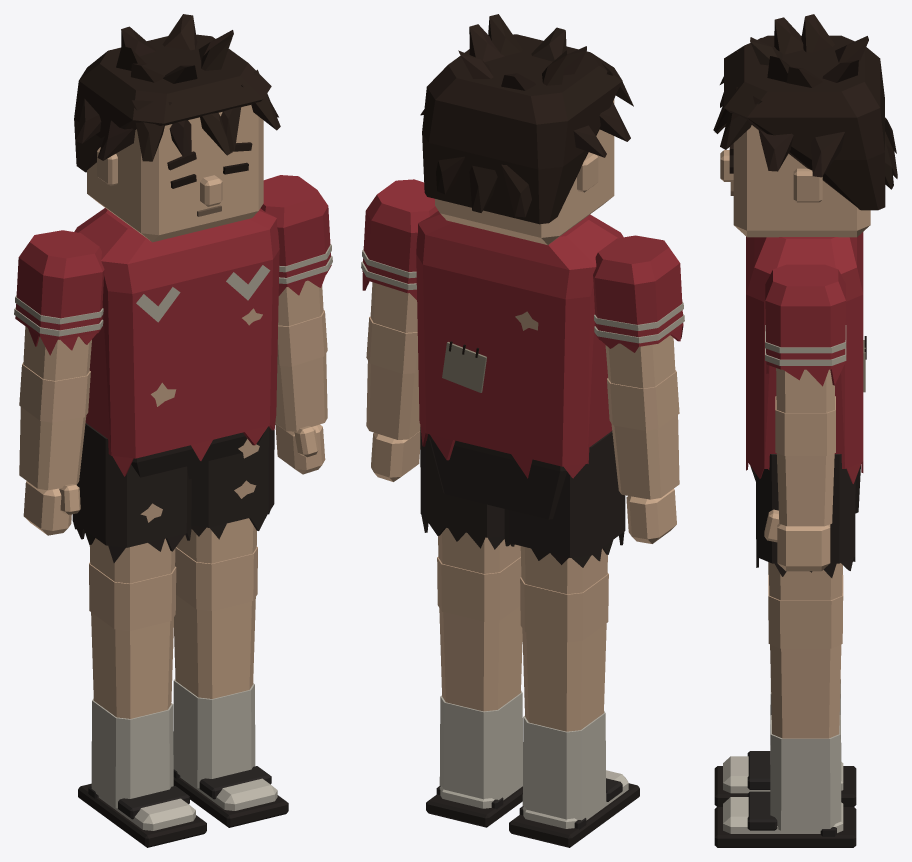
The model's file is tl_char_fan_torn_jersey_v01.glb.
3 views of the same model, side by side, from view 1: azimuth 30°, elevation 25°; view 2: azimuth 150°, elevation 25°; view 3: azimuth 270°, elevation 25° (orthographic).
Visible parts, largest first — view 1: spine, head, leg_lower_r, leg_lower_l, leg_upper_r, arm_upper_r, arm_lower_r, leg_upper_l, arm_upper_l, arm_lower_l, hips; view 2: spine, head, leg_lower_r, leg_lower_l, arm_upper_r, leg_upper_r, arm_lower_r, arm_upper_l, arm_lower_l, hips, leg_upper_l; view 3: head, leg_lower_l, spine, arm_upper_l, arm_lower_l, leg_upper_l, leg_lower_r.
Boxes of the visible parts, x1=… form: spine: x1=74, y1=208, x2=279, y2=476; head: x1=74, y1=14, x2=280, y2=242; leg_lower_r: x1=78, y1=562, x2=206, y2=847; leg_lower_l: x1=173, y1=546, x2=288, y2=827; leg_upper_r: x1=72, y1=423, x2=191, y2=583; arm_upper_r: x1=14, y1=230, x2=104, y2=380; arm_lower_r: x1=19, y1=363, x2=90, y2=535; leg_upper_l: x1=176, y1=426, x2=274, y2=563; arm_upper_l: x1=260, y1=175, x2=332, y2=326; arm_lower_l: x1=275, y1=310, x2=327, y2=474; hips: x1=131, y1=432, x2=263, y2=479; spine: x1=416, y1=211, x2=623, y2=478; head: x1=420, y1=14, x2=633, y2=244; leg_lower_r: x1=509, y1=573, x2=639, y2=847; leg_lower_l: x1=426, y1=557, x2=522, y2=827; arm_upper_r: x1=593, y1=235, x2=684, y2=388; leg_upper_r: x1=504, y1=431, x2=625, y2=594; arm_lower_r: x1=607, y1=370, x2=679, y2=543; arm_upper_l: x1=361, y1=179, x2=437, y2=332; arm_lower_l: x1=366, y1=316, x2=420, y2=481; hips: x1=428, y1=434, x2=567, y2=519; leg_upper_l: x1=420, y1=427, x2=520, y2=573; head: x1=713, y1=14, x2=897, y2=237; leg_lower_l: x1=714, y1=575, x2=856, y2=847; spine: x1=746, y1=232, x2=866, y2=483; arm_upper_l: x1=765, y1=264, x2=846, y2=412; arm_lower_l: x1=764, y1=396, x2=835, y2=571; leg_upper_l: x1=756, y1=454, x2=855, y2=600; leg_lower_r: x1=714, y1=562, x2=856, y2=806.
Bounding box in the file's own units: 0.7185 × 1.79 × 0.3837.
